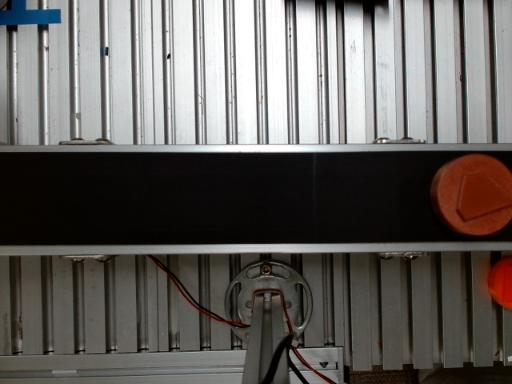Brown_Waper: (431, 154, 512, 236)
Not_Square: (457, 173, 511, 220)
